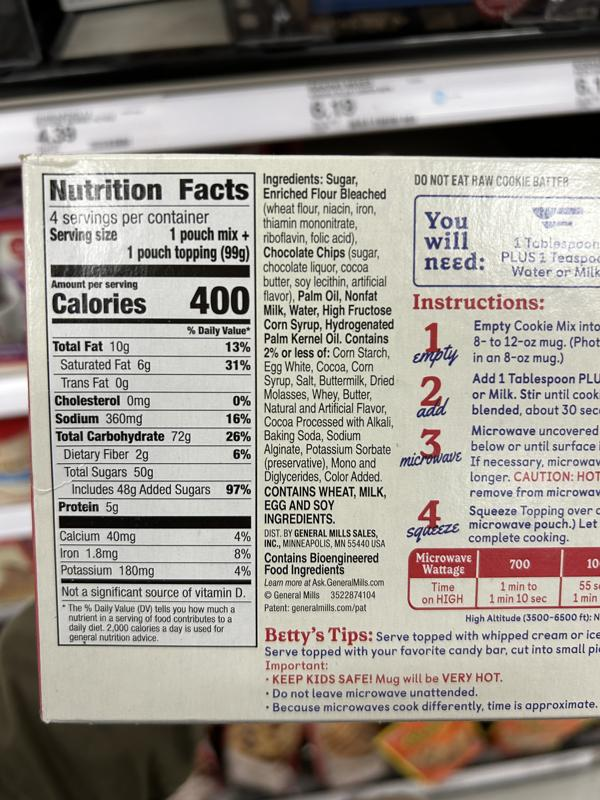ingredients: (261, 171, 397, 484)
